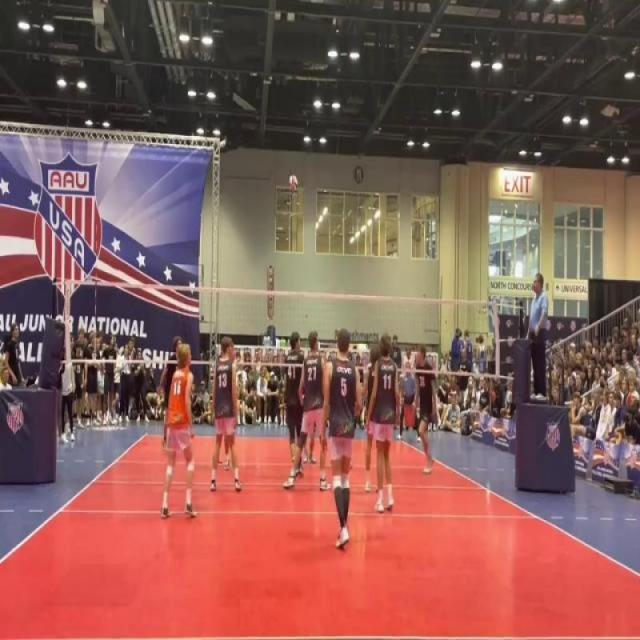volleyball: (287, 173, 299, 193)
